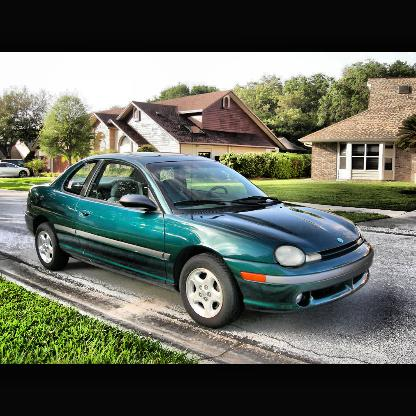Plymouth Neon Coupe 1999: (27, 150, 378, 330)
